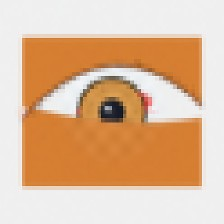hemorrhage_spot: (65, 61, 166, 142)
